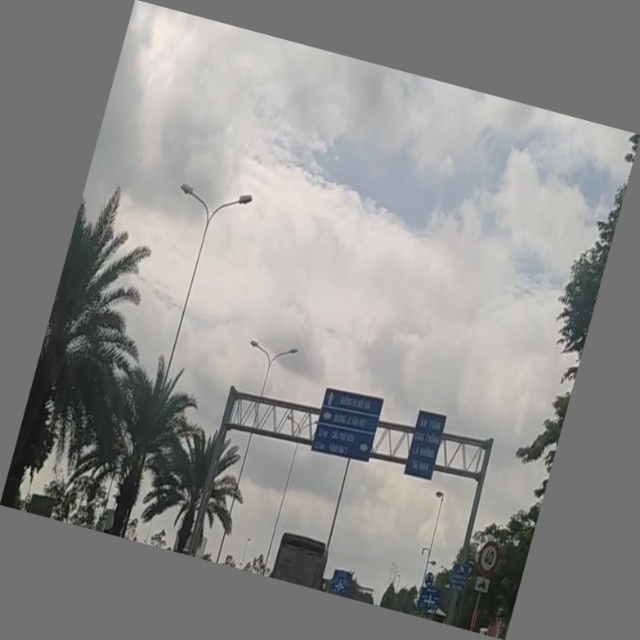P.127*40: (473, 537, 503, 579)
S.505a*Xe may: (471, 572, 494, 596)
